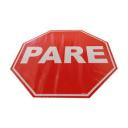Pare: (9, 28, 119, 100)
